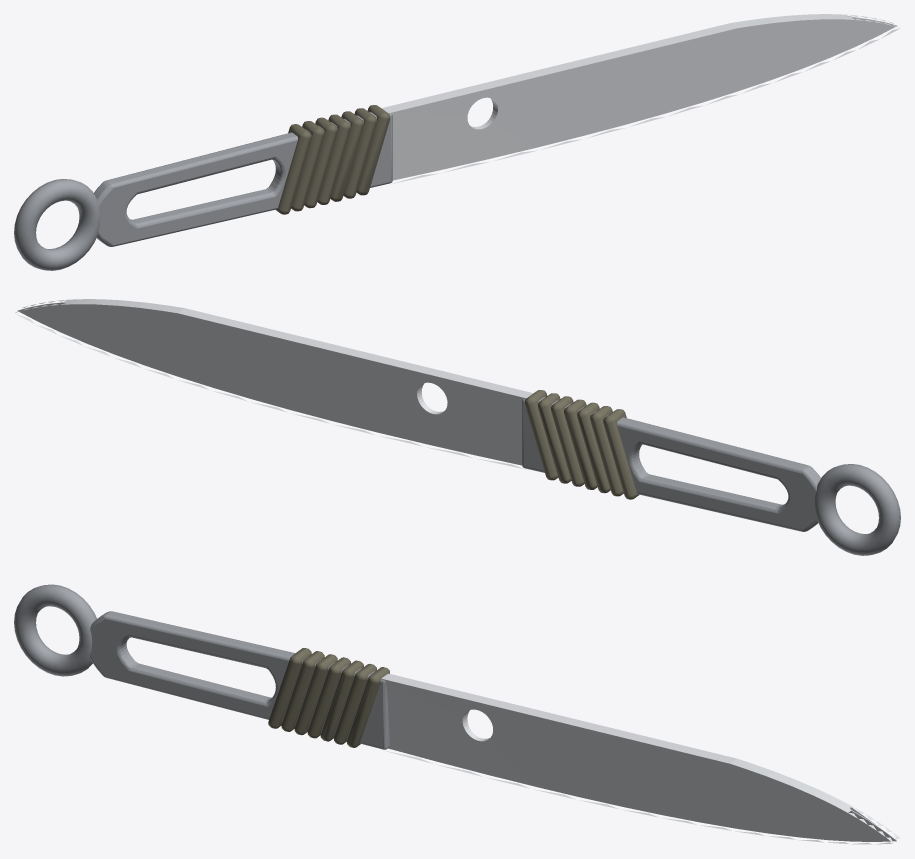
The model's file is knife_skeleton.glb.
3 renders of one model, top to bottom at view 1: azimuth 30°, elevation 25°; view 2: azimuth 150°, elevation 25°; view 3: azimuth 330°, elevation 25°, orthographic.
Parts seen in each view (by area): view 1: lod_skin_blade, lod_metal_steel, lod_detail_cord; view 2: lod_skin_blade, lod_metal_steel, lod_detail_cord; view 3: lod_skin_blade, lod_metal_steel, lod_detail_cord.
Part boxes in pixels (left/top/right/bottom): lod_skin_blade: left=381, top=14, right=900, bottom=183; lod_metal_steel: left=14, top=112, right=392, bottom=270; lod_detail_cord: left=275, top=105, right=389, bottom=214; lod_skin_blade: left=15, top=299, right=533, bottom=469; lod_metal_steel: left=522, top=397, right=900, bottom=555; lod_detail_cord: left=525, top=390, right=639, bottom=499; lod_skin_blade: left=381, top=673, right=900, bottom=844; lod_metal_steel: left=14, top=584, right=389, bottom=749; lod_detail_cord: left=268, top=648, right=389, bottom=747.
Size of the model in its own units: 0.3235 by 0.031 by 0.0099.
